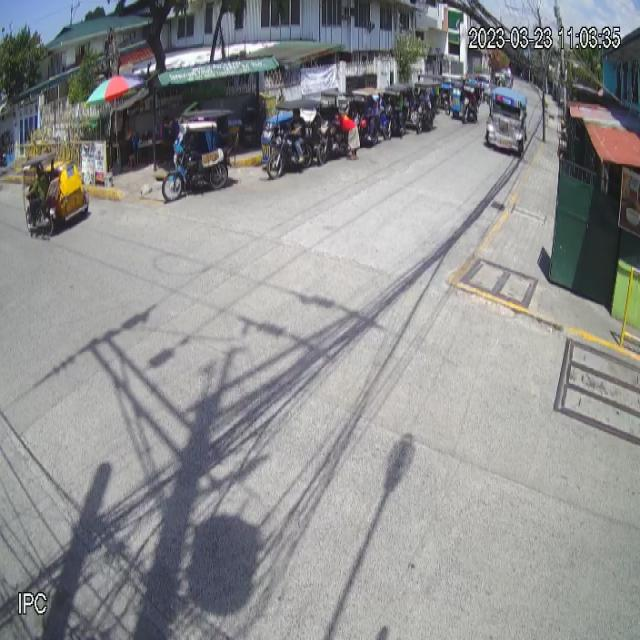Tricycle: (21, 152, 89, 235)
